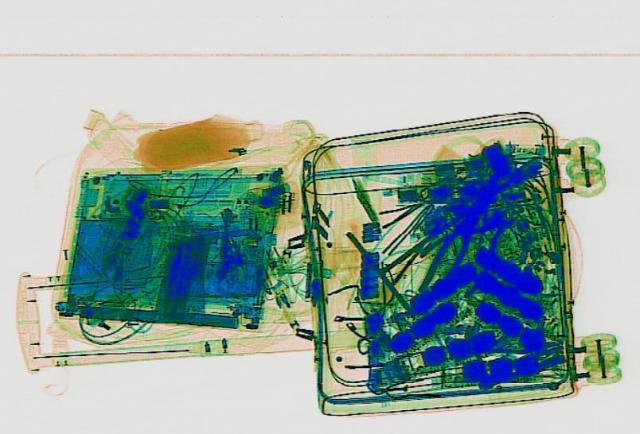Pliers: (414, 210, 486, 292)
